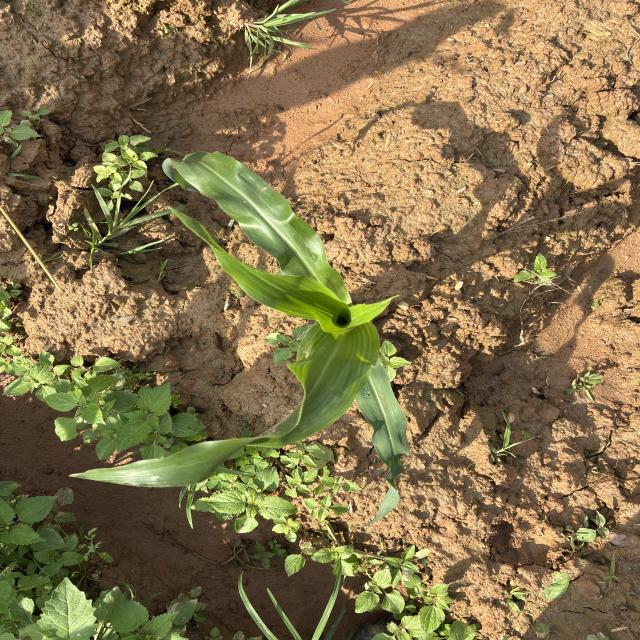maize: (160, 154, 420, 434)
weed: (4, 298, 196, 640), (239, 455, 473, 640), (214, 4, 354, 67), (84, 133, 147, 267), (564, 492, 629, 610), (0, 100, 55, 159), (525, 259, 560, 288), (276, 332, 304, 358), (385, 344, 403, 371)
